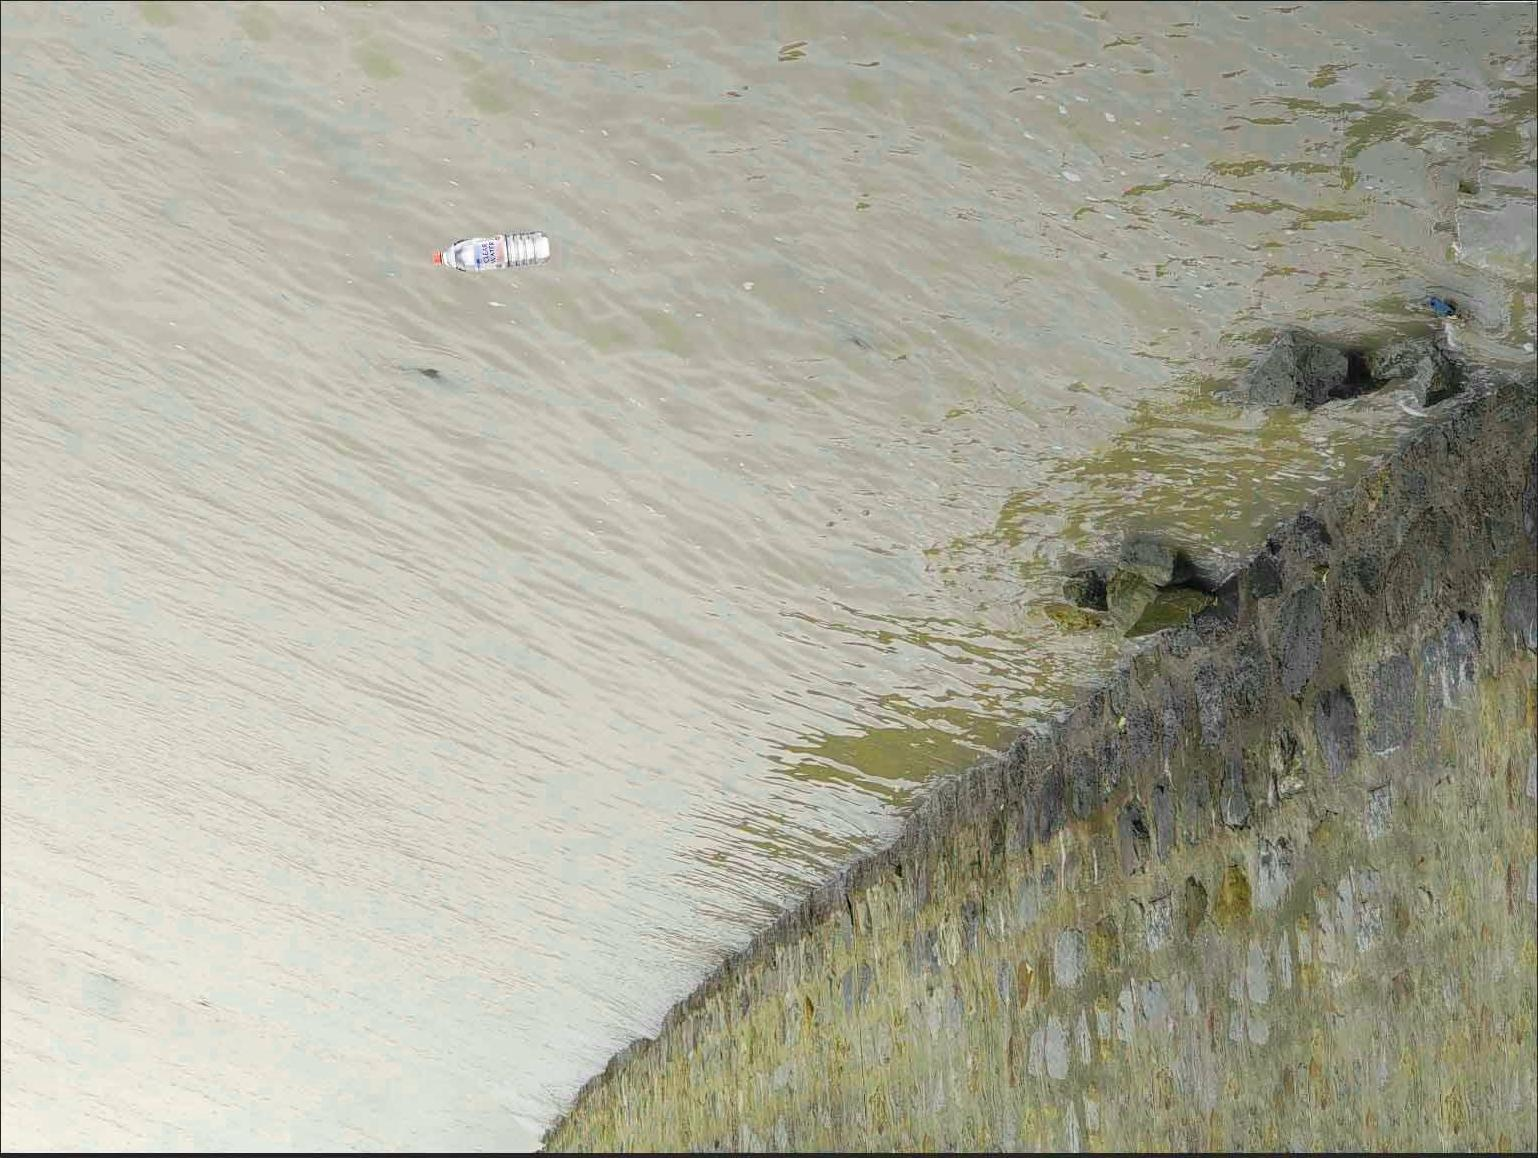Plastic: (426, 229, 557, 275)
